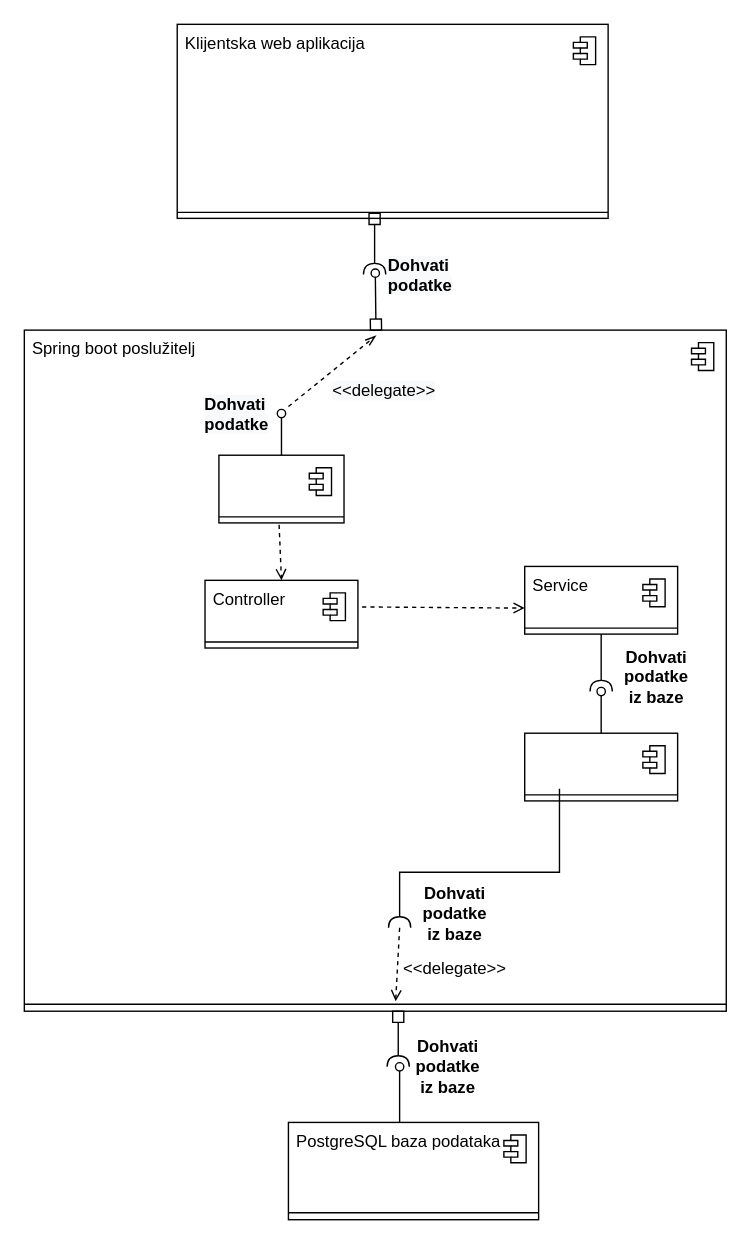
Some shapes in this 751 by 1244 pixel diagram are drawn without their labels. Each missing label, with the box of its shape:
Repository: (523, 732, 678, 801)
REST API: (218, 454, 344, 523)
